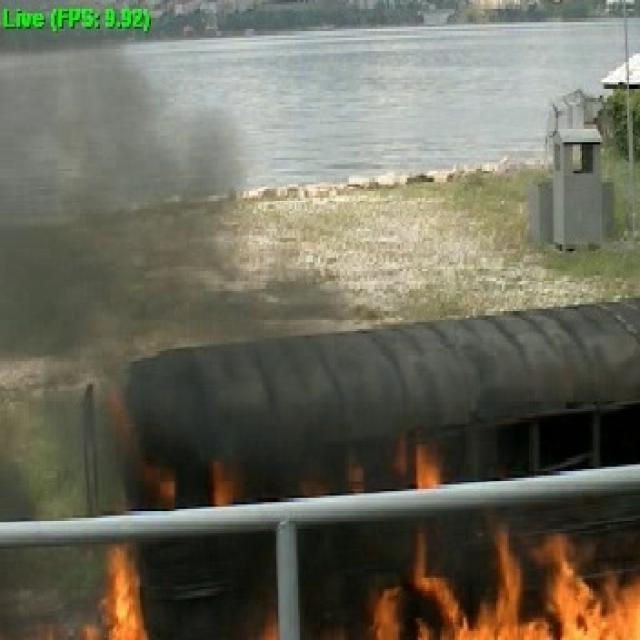Fire: (484, 572, 637, 640), (104, 541, 147, 640)
Smoke: (31, 106, 202, 318)
